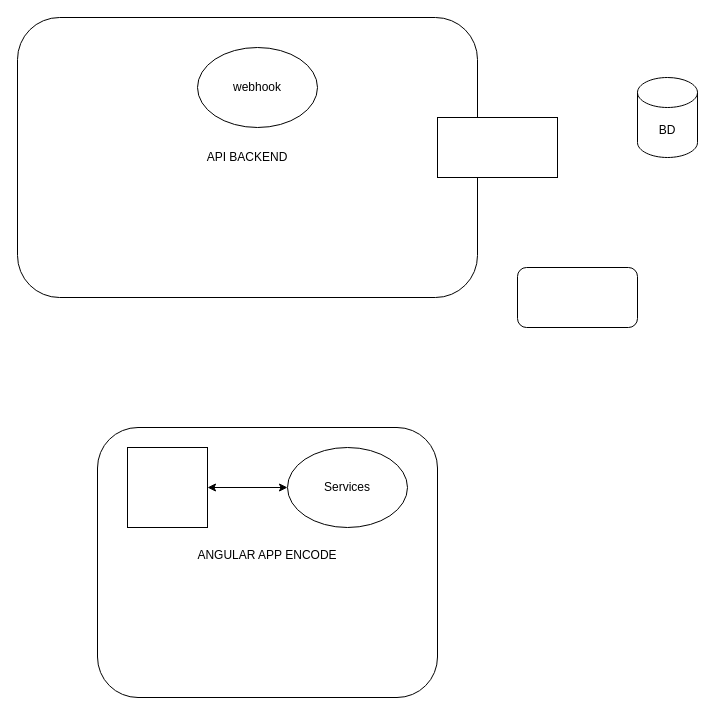
This 715x715 diagram has some shape labels left out. Here are the shapes that lost their labels. From the top down, the centre of each, then its label:
(497,147): ORM Entitu]y Framework
(167,487): Interfaz Usuario
